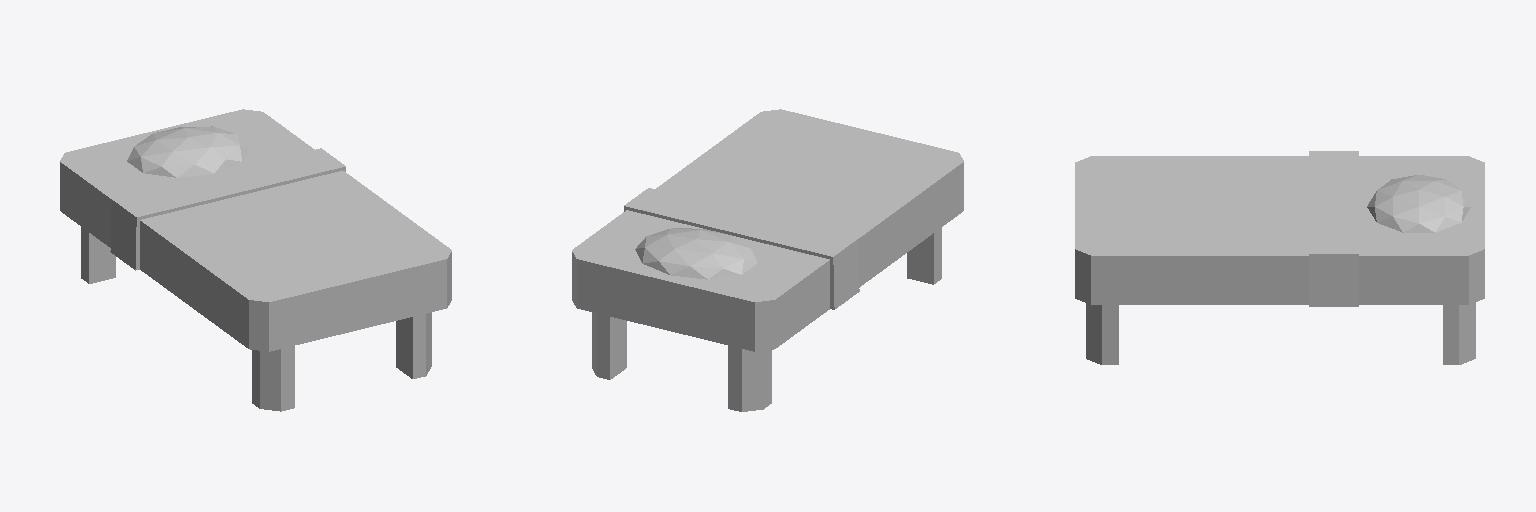
Rendered from Bunk_Single_Purple.obj.
3 renders of one model, left to right at view 1: azimuth 30°, elevation 25°; view 2: azimuth 150°, elevation 25°; view 3: azimuth 270°, elevation 25°, orthographic.
Visible parts, largest first — view 1: Bunk_Single_Purple; view 2: Bunk_Single_Purple; view 3: Bunk_Single_Purple.
Boxes of the visible parts, <box> form: Bunk_Single_Purple: <box>60,109,451,411</box>; Bunk_Single_Purple: <box>572,109,963,411</box>; Bunk_Single_Purple: <box>1075,151,1484,364</box>.
Bounding box in the file's own units: 1.54 × 0.9324 × 2.57.